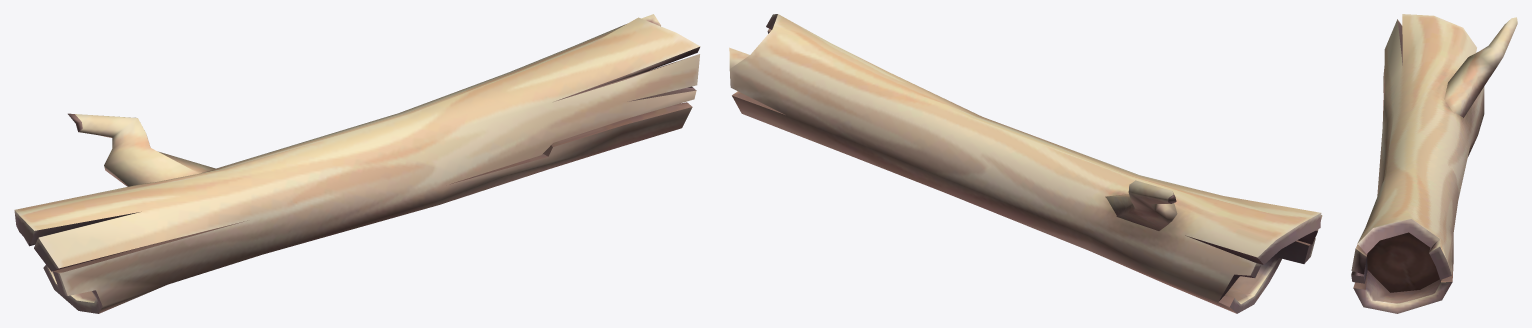
The model's file is FallenOverTreeTrunk.fbx.
3 views of the same model, side by side, from view 1: azimuth 30°, elevation 25°; view 2: azimuth 150°, elevation 25°; view 3: azimuth 270°, elevation 25° (orthographic). The views are drawn at different scales.
Parts seen in each view (by area): view 1: FallenOverTreeTrunk; view 2: FallenOverTreeTrunk; view 3: FallenOverTreeTrunk.
Part boxes in pixels (<box>): FallenOverTreeTrunk: <box>14,14,700,313</box>; FallenOverTreeTrunk: <box>729,14,1322,313</box>; FallenOverTreeTrunk: <box>1351,14,1517,313</box>.
Size of the model in its own units: 559 by 138 by 145.
1 material, 1 textured.
